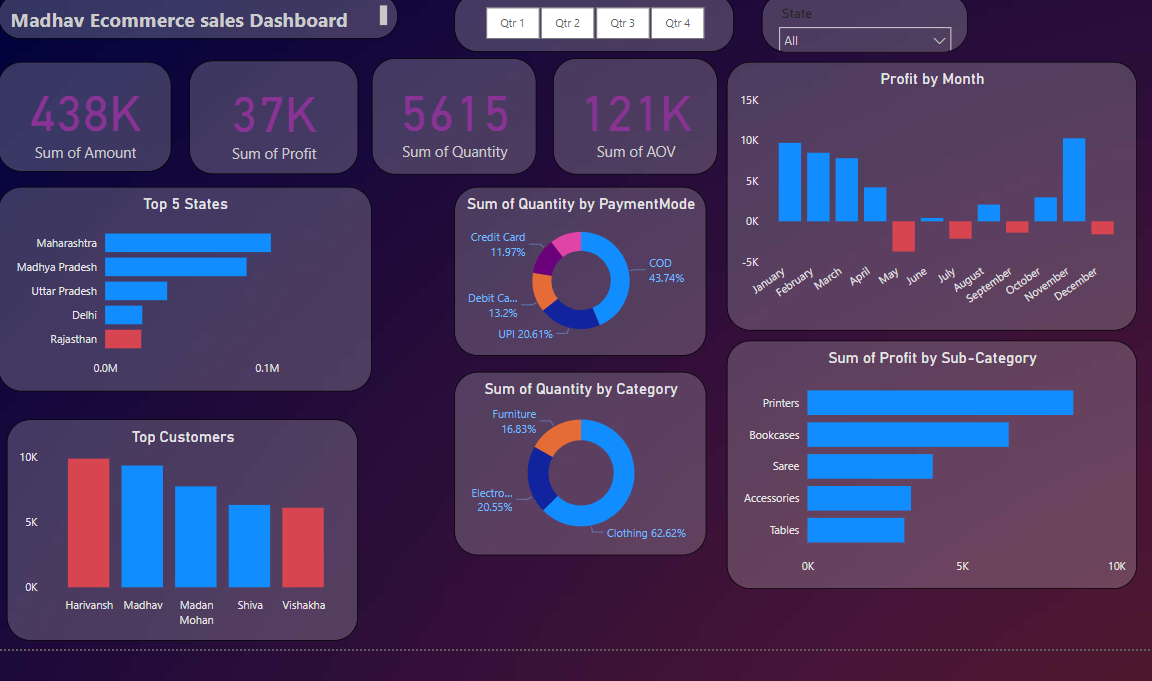

The page's visual inventory and layout, read from the dashboard file:
{"tool":"powerbi","page":{"name":"Page 1","canvas":[1280,720],"ordinal":0},"visuals":[{"type":"textbox","box":[0,0,439.1,50.8],"z":0},{"type":"columnChart","title":"Profit by Month","fields":{"Category":["Orders.Order Date.Variation.Date Hierarchy.Month"],"Y":["Details.Profit"]},"box":[800,75.5,450.1,295],"z":1000},{"type":"barChart","fields":{"Category":["Details.Sub-Category"],"Y":["Details.Profit"]},"box":[800,381.5,450.1,273.1],"z":2000},{"type":"donutChart","fields":{"Category":["Details.Category"],"Y":["Details.Quantity"]},"box":[500.9,415.8,277.2,201.7],"z":3000},{"type":"donutChart","fields":{"Y":["Details.Quantity"],"Category":["Details.PaymentMode"]},"box":[500.9,212.7,277.2,185.2],"z":4000},{"type":"card","fields":{"Values":["Details.Amount"]},"box":[0,75.5,190.7,120.8],"z":5000},{"type":"card","fields":{"Values":["Details.Profit"]},"box":[209.9,74.1,185.2,124.9],"z":6000},{"type":"card","fields":{"Values":["Details.Quantity"]},"box":[410.3,71.4,181.1,127.6],"z":7000},{"type":"card","fields":{"Values":["Details.AOV"]},"box":[609.3,71.4,181.1,127.6],"z":8000},{"type":"barChart","title":"Top  5 States","fields":{"Category":["Orders.State"],"Y":["Details.Amount"]},"box":[0,212.7,410.3,225],"z":9000},{"type":"columnChart","title":"Top Customers","fields":{"Category":["Orders.CustomerName"],"Y":["Details.Amount"]},"box":[9.6,467.9,385.6,242.9],"z":10000},{"type":"slicer","fields":{"Values":["Orders.Order Date.Variation.Date Hierarchy.Quarter"]},"box":[500.9,0,307.4,64.5],"z":11000},{"type":"slicer","fields":{"Values":["Orders.State"]},"box":[838.4,0,226.4,64.5],"z":12000}]}

Visuals, with their boxes in screenshot pixels (x1, y1, x2, y2):
textbox: {"x1": 0, "y1": 0, "x2": 392, "y2": 35}
"Profit by Month" columnChart: {"x1": 724, "y1": 57, "x2": 1138, "y2": 329}
barChart - Details.Sub-Category x Details.Profit: {"x1": 724, "y1": 339, "x2": 1138, "y2": 590}
donutChart - Details.Category x Details.Quantity: {"x1": 449, "y1": 371, "x2": 704, "y2": 556}
donutChart - Details.Quantity x Details.PaymentMode: {"x1": 449, "y1": 184, "x2": 704, "y2": 354}
card - Details.Amount: {"x1": 0, "y1": 57, "x2": 163, "y2": 169}
card - Details.Profit: {"x1": 181, "y1": 56, "x2": 352, "y2": 171}
card - Details.Quantity: {"x1": 366, "y1": 54, "x2": 532, "y2": 171}
card - Details.AOV: {"x1": 549, "y1": 54, "x2": 715, "y2": 171}
"Top  5 States" barChart: {"x1": 0, "y1": 184, "x2": 366, "y2": 391}
"Top Customers" columnChart: {"x1": 0, "y1": 419, "x2": 352, "y2": 642}
slicer - Orders.Order Date.Variation.Date Hierarchy.Quarter: {"x1": 449, "y1": 0, "x2": 732, "y2": 47}
slicer - Orders.State: {"x1": 759, "y1": 0, "x2": 968, "y2": 47}
